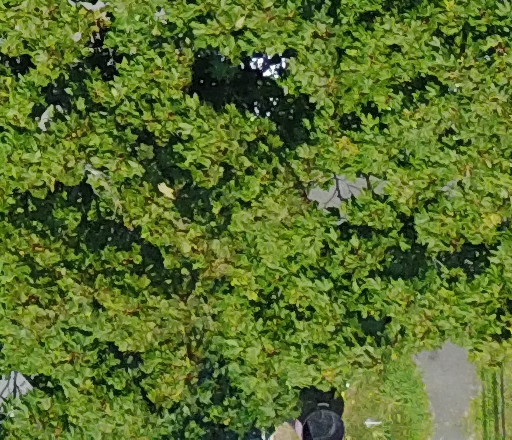garbage bin: (279, 379, 355, 440)
